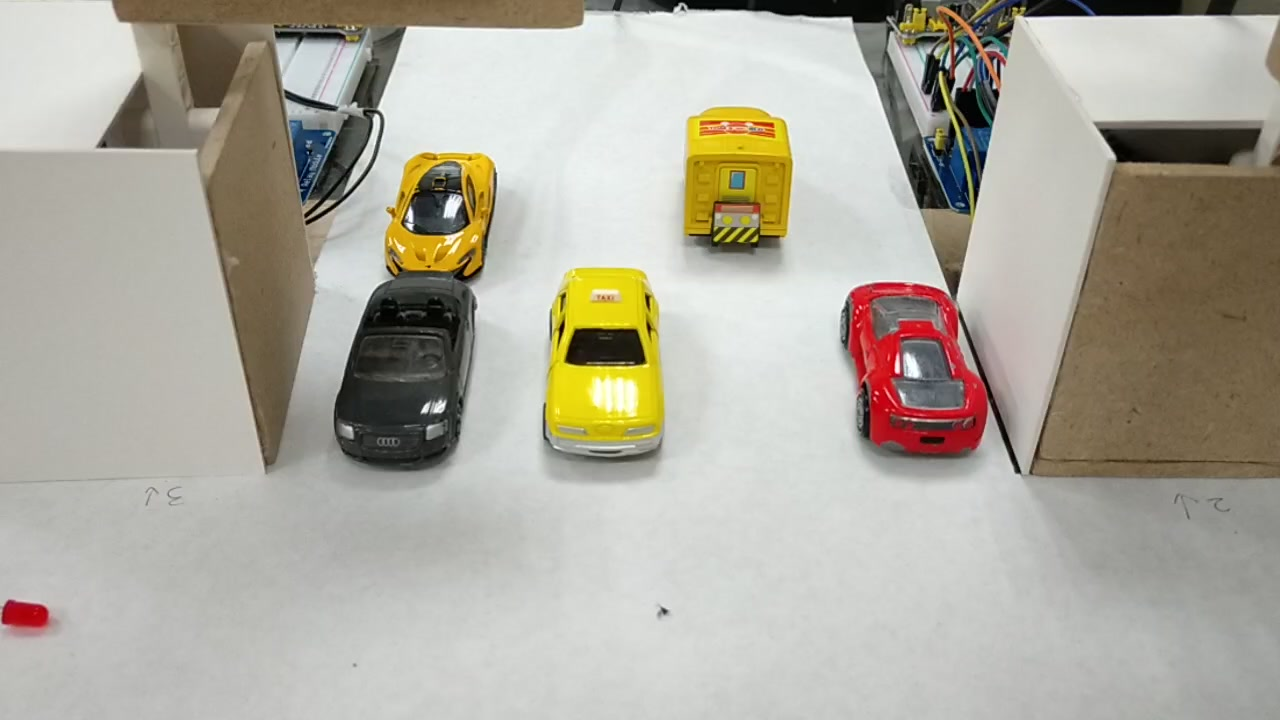car: (843, 281, 989, 470), (333, 276, 468, 448), (544, 266, 661, 450), (390, 150, 494, 269)
